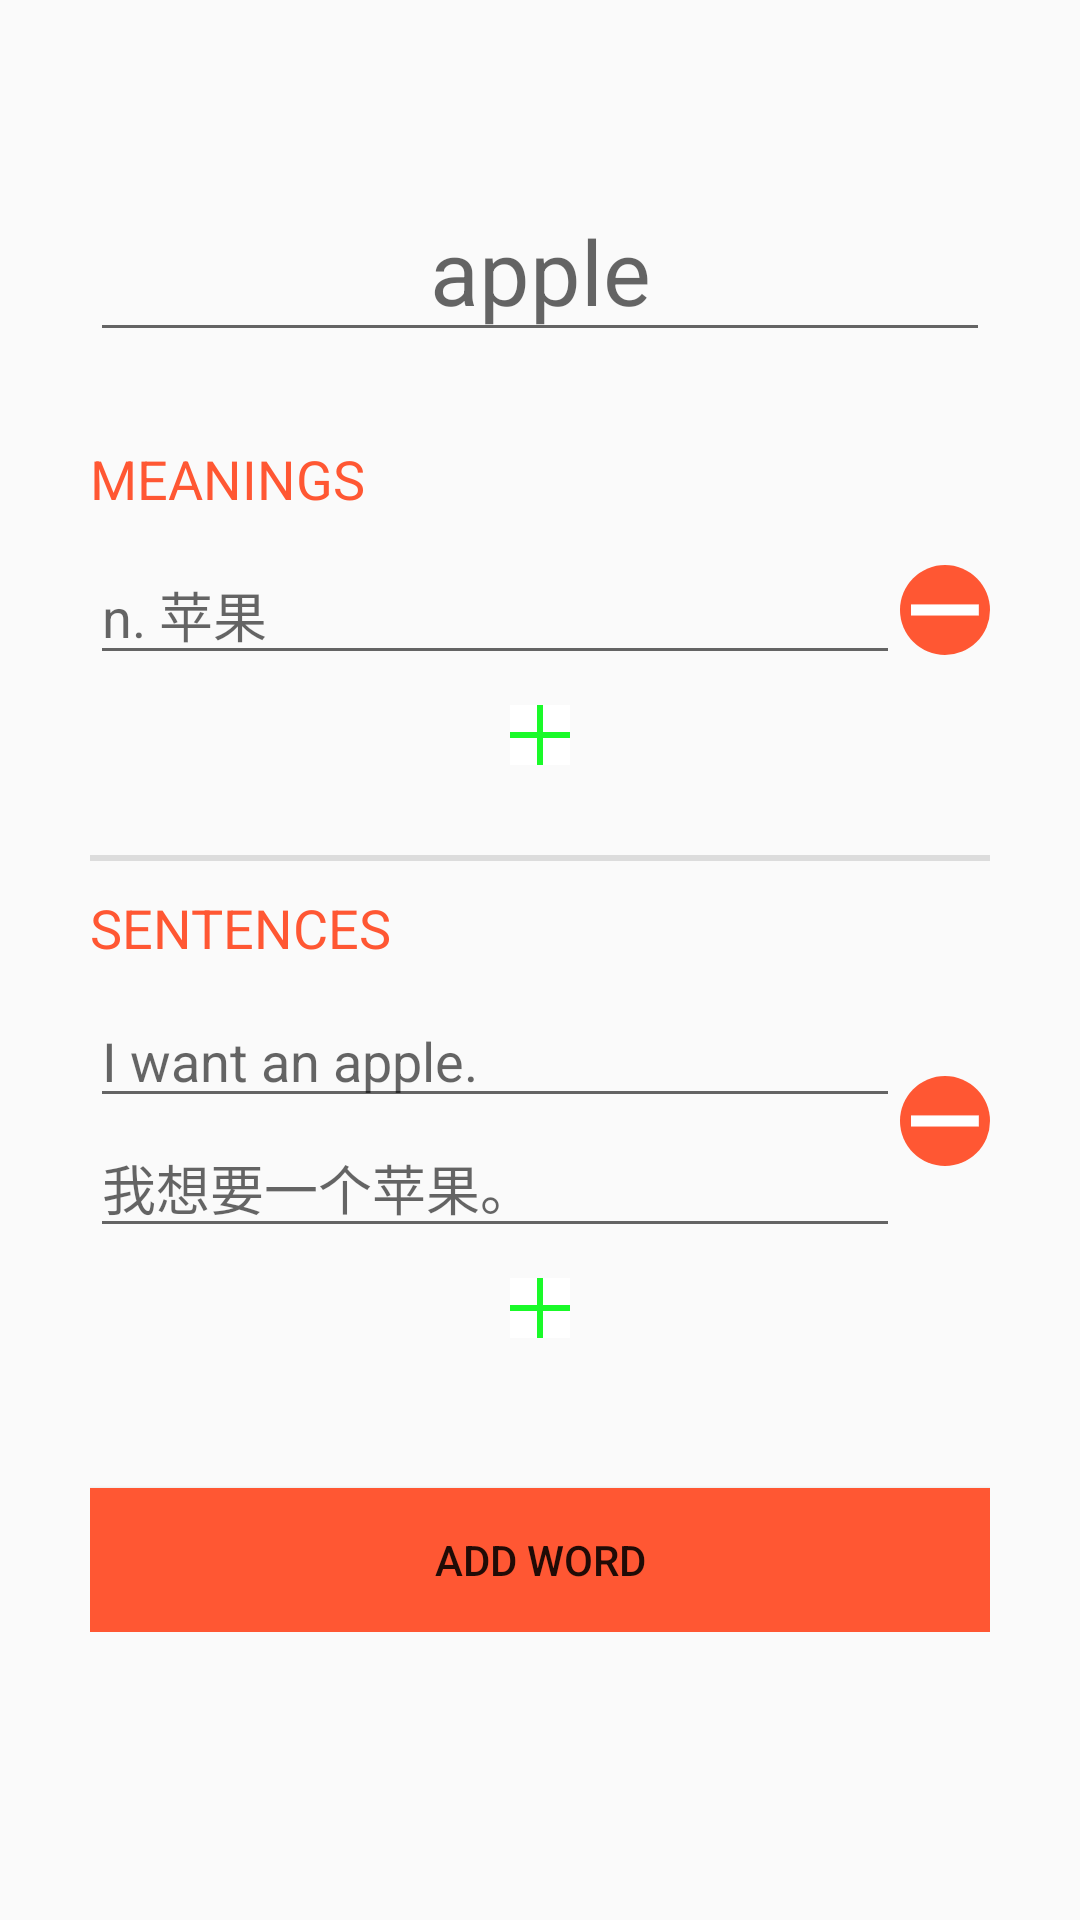

Icons on this 1080px x 1920px Android screen, each with its box as [x1, y1, x2, y2]:
add item: [510, 705, 570, 765], [510, 1278, 570, 1338]
del: [900, 565, 990, 655], [900, 1076, 990, 1166]
